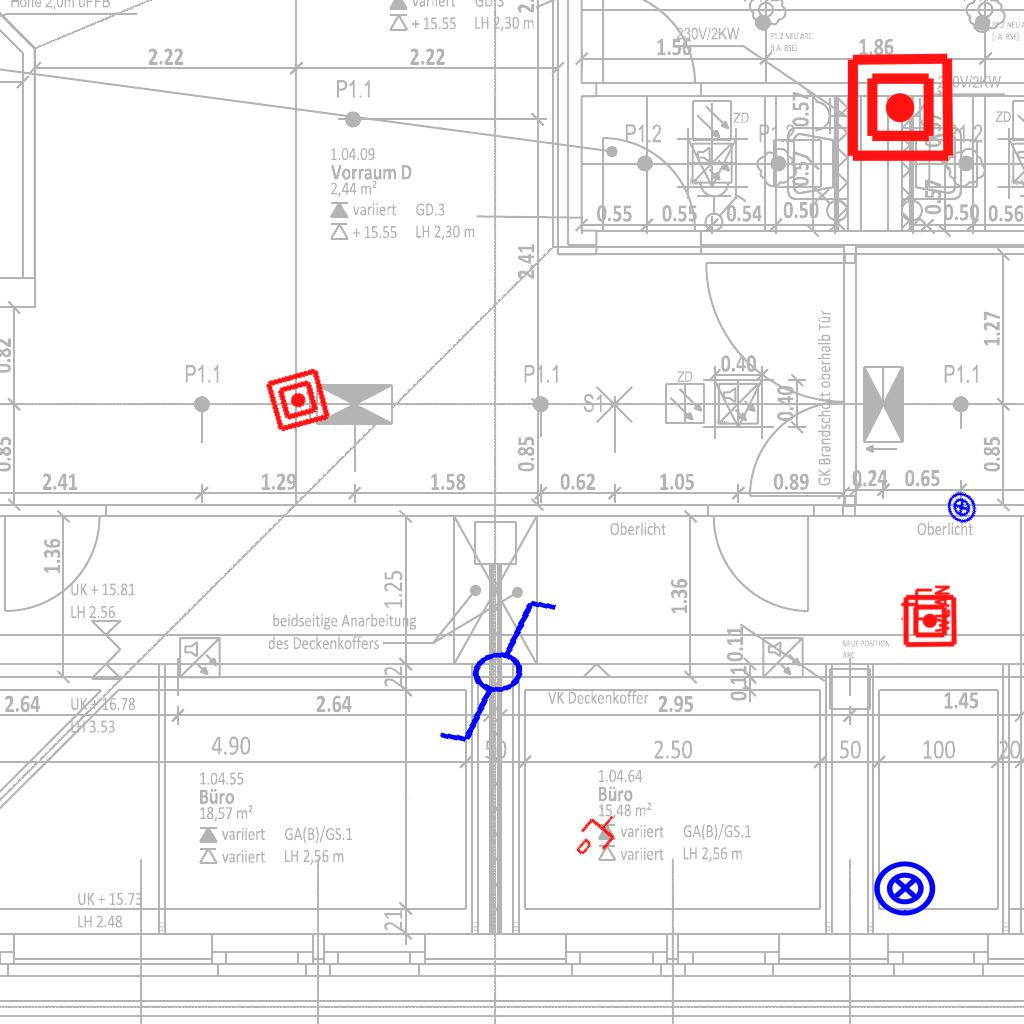Datenanschluss_einfach: (567, 804, 627, 866)
NAM-Nichtautomatischer_Melder: (844, 51, 957, 164), (263, 365, 333, 435), (902, 593, 958, 649)
Taster_beleuchtet: (872, 855, 938, 921), (938, 484, 985, 531)
WLAN: (899, 583, 951, 635)
Wechselschalter: (402, 589, 577, 753)
